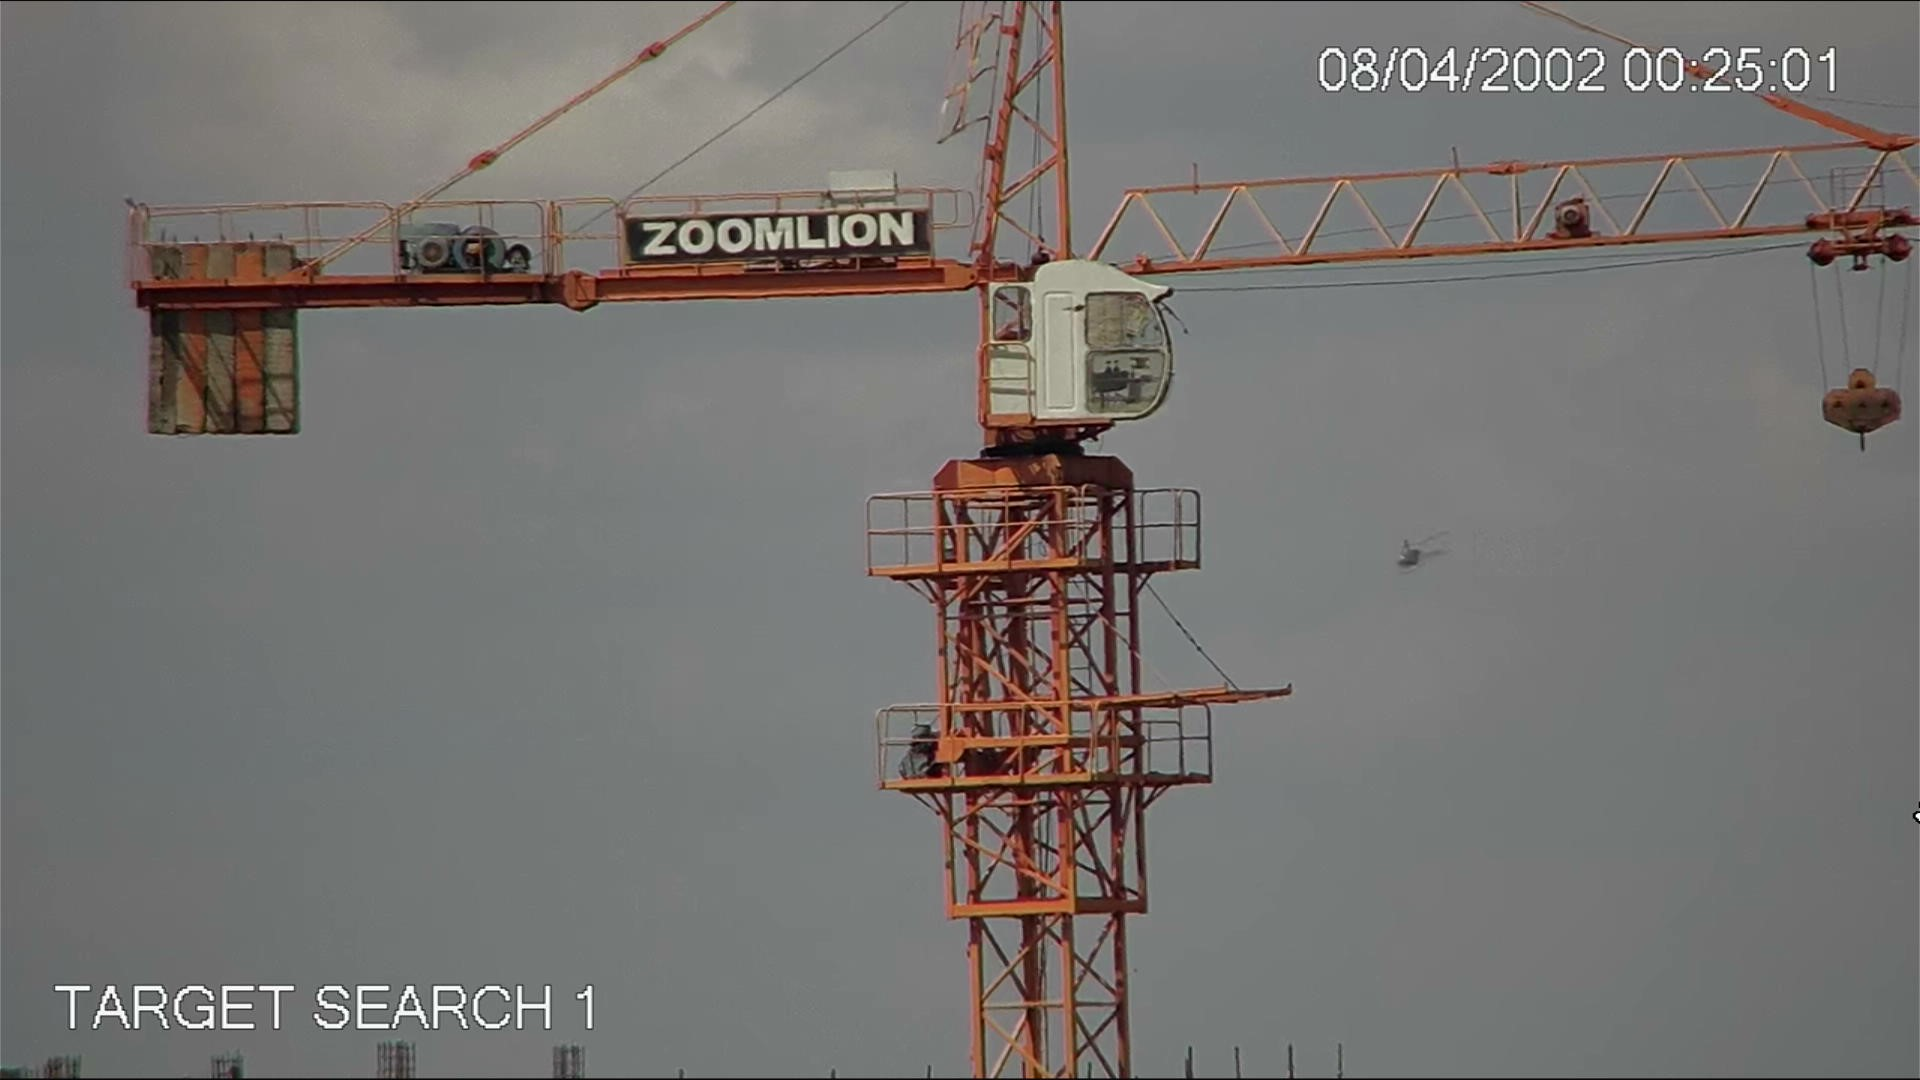SU_30: (1393, 535, 1443, 572)
